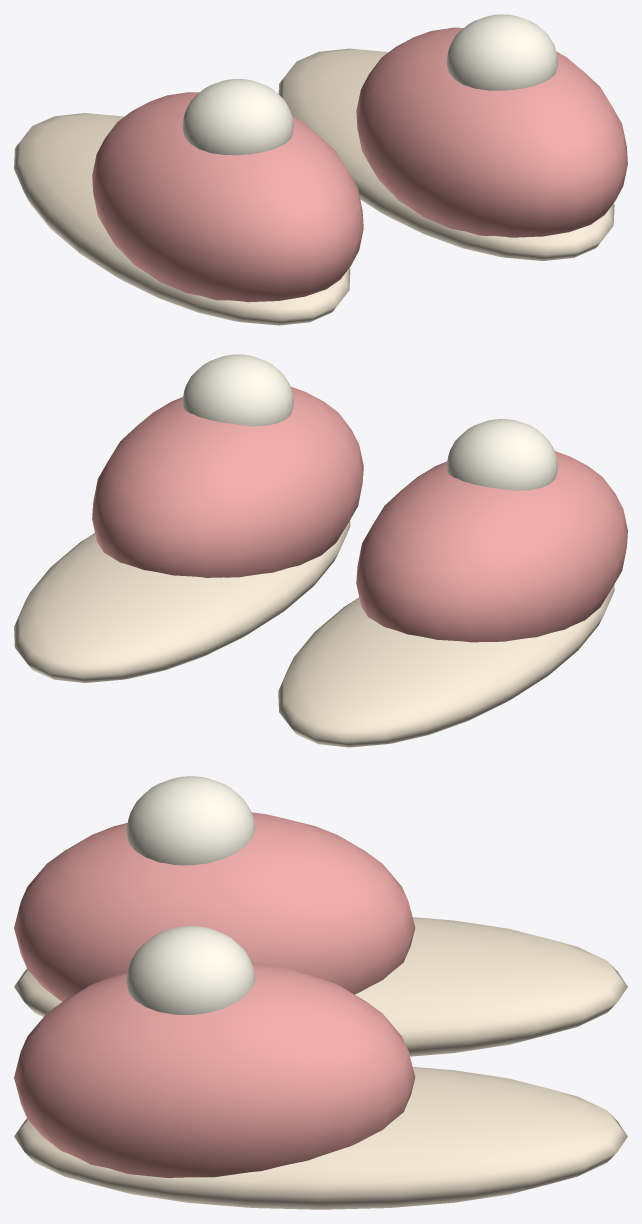
Rendered from bedroomSlippers.glb.
The picture shows the model from 3 angles, top to bottom: view 1: azimuth 30°, elevation 25°; view 2: azimuth 150°, elevation 25°; view 3: azimuth 270°, elevation 25°; orthographic projection. The views are drawn at different scales.
Visible parts, largest first — view 1: Slipper toe, Slipper toe.001, Slipper sole, Slipper sole.001, Pom pom.001, Pom pom; view 2: Slipper toe, Slipper toe.001, Slipper sole.001, Slipper sole, Pom pom, Pom pom.001; view 3: Slipper toe.001, Slipper toe, Slipper sole.001, Slipper sole, Pom pom, Pom pom.001.
Part boxes in pixels (left/top/right/bottom): Slipper toe: left=92, top=92, right=363, bottom=302; Slipper toe.001: left=356, top=27, right=627, bottom=237; Slipper sole: left=14, top=113, right=350, bottom=325; Slipper sole.001: left=278, top=48, right=614, bottom=260; Pom pom.001: left=446, top=14, right=558, bottom=90; Pom pom: left=182, top=79, right=293, bottom=155; Slipper toe: left=356, top=451, right=627, bottom=642; Slipper toe.001: left=92, top=386, right=363, bottom=577; Slipper sole.001: left=14, top=521, right=350, bottom=682; Slipper sole: left=278, top=585, right=614, bottom=747; Pom pom: left=446, top=419, right=558, bottom=490; Pom pom.001: left=182, top=354, right=293, bottom=426; Slipper toe.001: left=14, top=962, right=415, bottom=1178; Slipper toe: left=14, top=812, right=415, bottom=1001; Slipper sole.001: left=14, top=1067, right=627, bottom=1209; Slipper sole: left=14, top=917, right=627, bottom=1056; Pom pom: left=126, top=776, right=255, bottom=865; Pom pom.001: left=126, top=926, right=255, bottom=1014.
Bounding box in the file's own units: 0.54 × 0.23 × 0.52.
